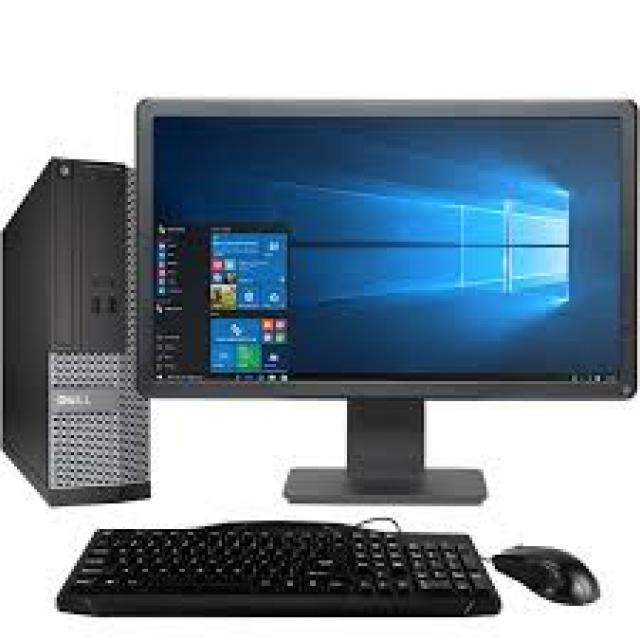Computer: (0, 155, 157, 531)
Monitor: (125, 82, 640, 421)
